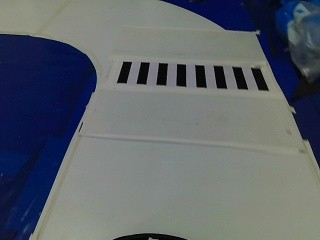crosswalk: (104, 53, 275, 97)
